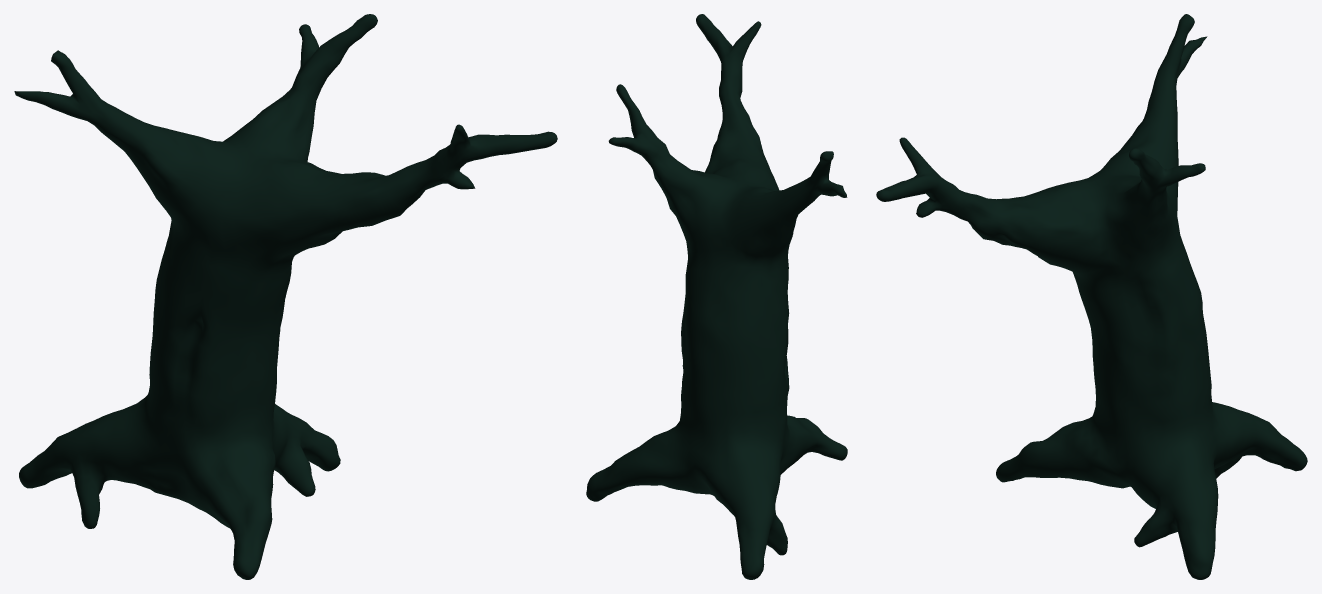
File: bigtree.FBX
The picture shows the model from 3 angles, left to right: view 1: azimuth 30°, elevation 25°; view 2: azimuth 150°, elevation 25°; view 3: azimuth 270°, elevation 25°; orthographic projection. The views are drawn at different scales.
Visible parts, largest first — view 1: Group38123; view 2: Group38123; view 3: Group38123.
Part boxes in pixels (<box>): Group38123: <box>14,14,557,579</box>; Group38123: <box>586,14,847,579</box>; Group38123: <box>876,14,1307,579</box>.
Bounding box in the file's own units: 4.91 × 6.42 × 5.61.
